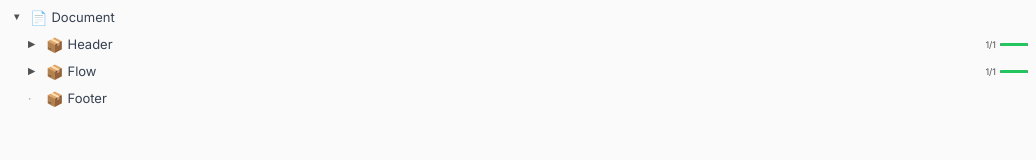
Scenario: StructureTree › expand/collapse toggles visibility of children
Note: Click root toggle to collapse
Click the element with class "structure-tree-node__toggle" showing "▼": (17, 17) [12, 11, 22, 22]
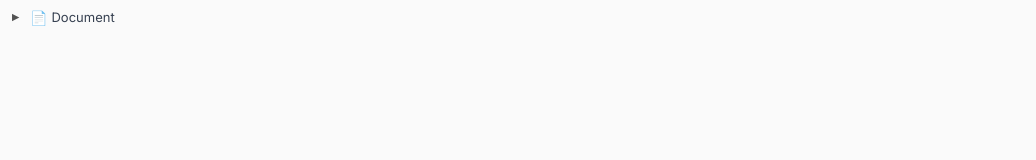
Check: the text "Header" is gone
Check: the text "Flow" is gone
